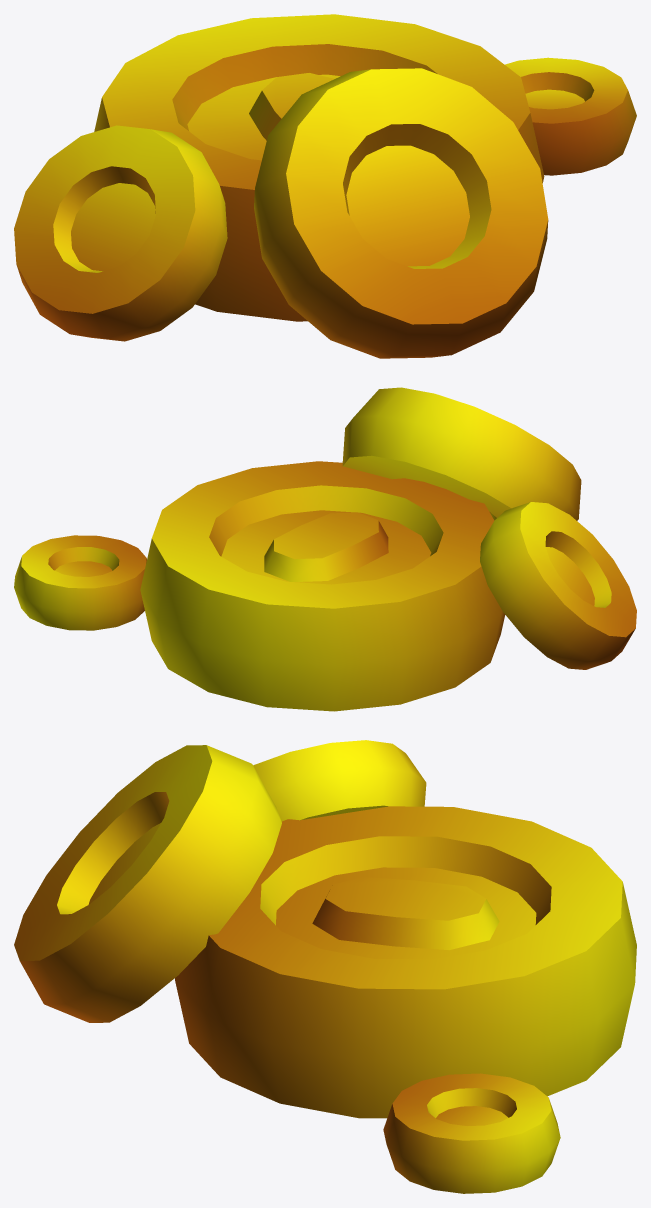
Rendered from Gold_Coin_04.glb.
3 renders of one model, top to bottom at view 1: azimuth 30°, elevation 25°; view 2: azimuth 150°, elevation 25°; view 3: azimuth 270°, elevation 25°, orthographic. The views are drawn at different scales.
Visible parts, largest first — view 1: Gold_Coin_04; view 2: Gold_Coin_04; view 3: Gold_Coin_04.
Boxes of the visible parts, x1,y1,x2,y2 form: Gold_Coin_04: [14, 14, 636, 358]; Gold_Coin_04: [14, 387, 636, 711]; Gold_Coin_04: [14, 740, 636, 1193].
Size of the model in its own units: 0.6198 by 0.2144 by 0.4891.
Materials: 1 (1 with a texture image).
